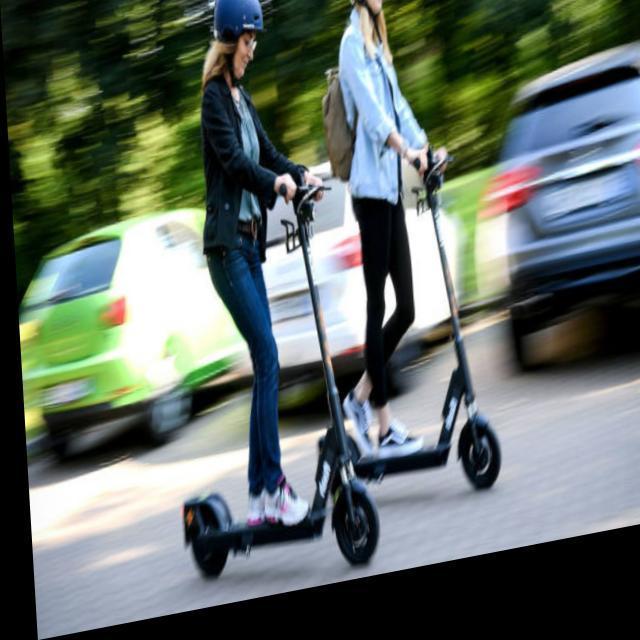Helmet: (200, 0, 271, 84)
